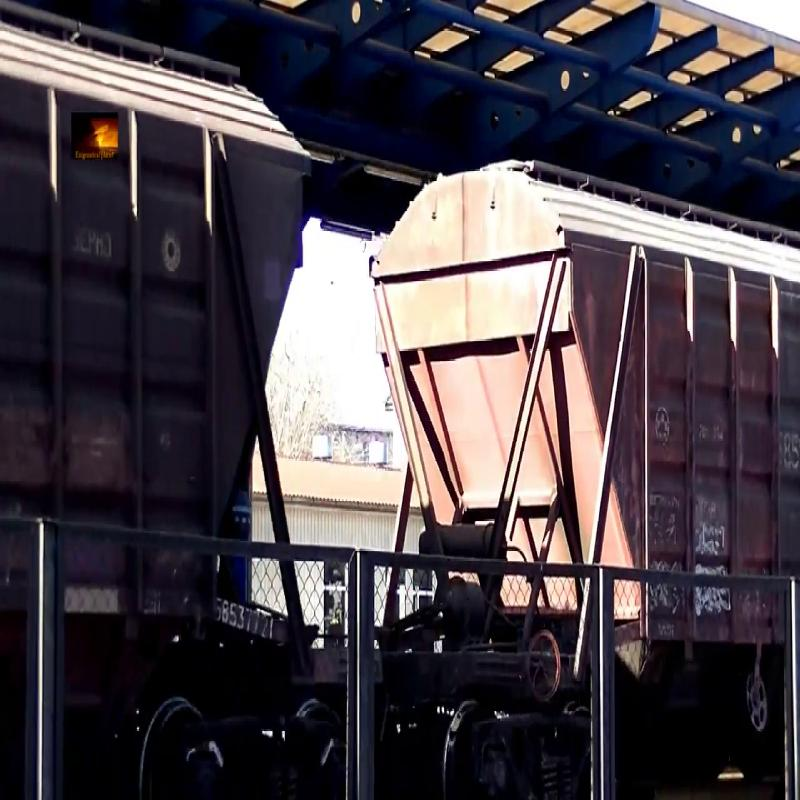train: (378, 21, 800, 770), (2, 24, 332, 772)
